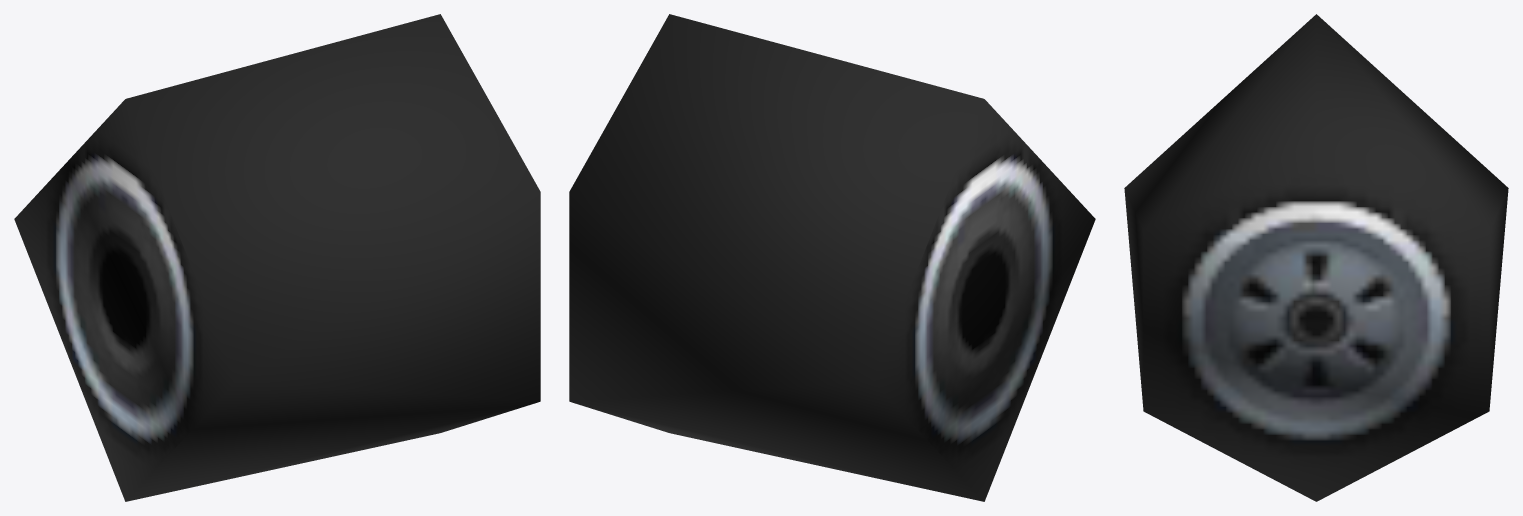
Rendered from tire_race_L_lod.dae.
3 views of the same model, side by side, from view 1: azimuth 30°, elevation 25°; view 2: azimuth 150°, elevation 25°; view 3: azimuth 270°, elevation 25° (orthographic). The views are drawn at different scales.
Parts seen in each view (by area): view 1: _0_0_node; view 2: _0_0_node; view 3: _0_0_node.
Part boxes in pixels (box(x1,y1,x2,y2)): _0_0_node: box(14, 14, 540, 501); _0_0_node: box(569, 14, 1095, 501); _0_0_node: box(1124, 14, 1508, 501).
Size of the model in its own units: 3.27 by 4.16 by 4.
Materials: 1 (1 with a texture image).
